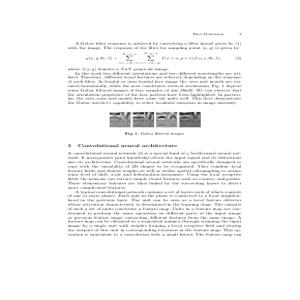image: (100, 106, 204, 129)
text: (63, 143, 244, 238), (62, 30, 243, 105)
